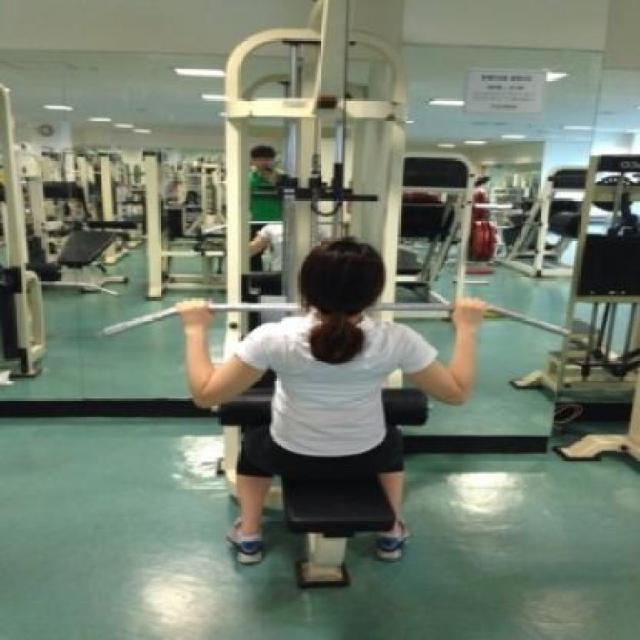Lat Pull Down: (77, 0, 588, 605)
